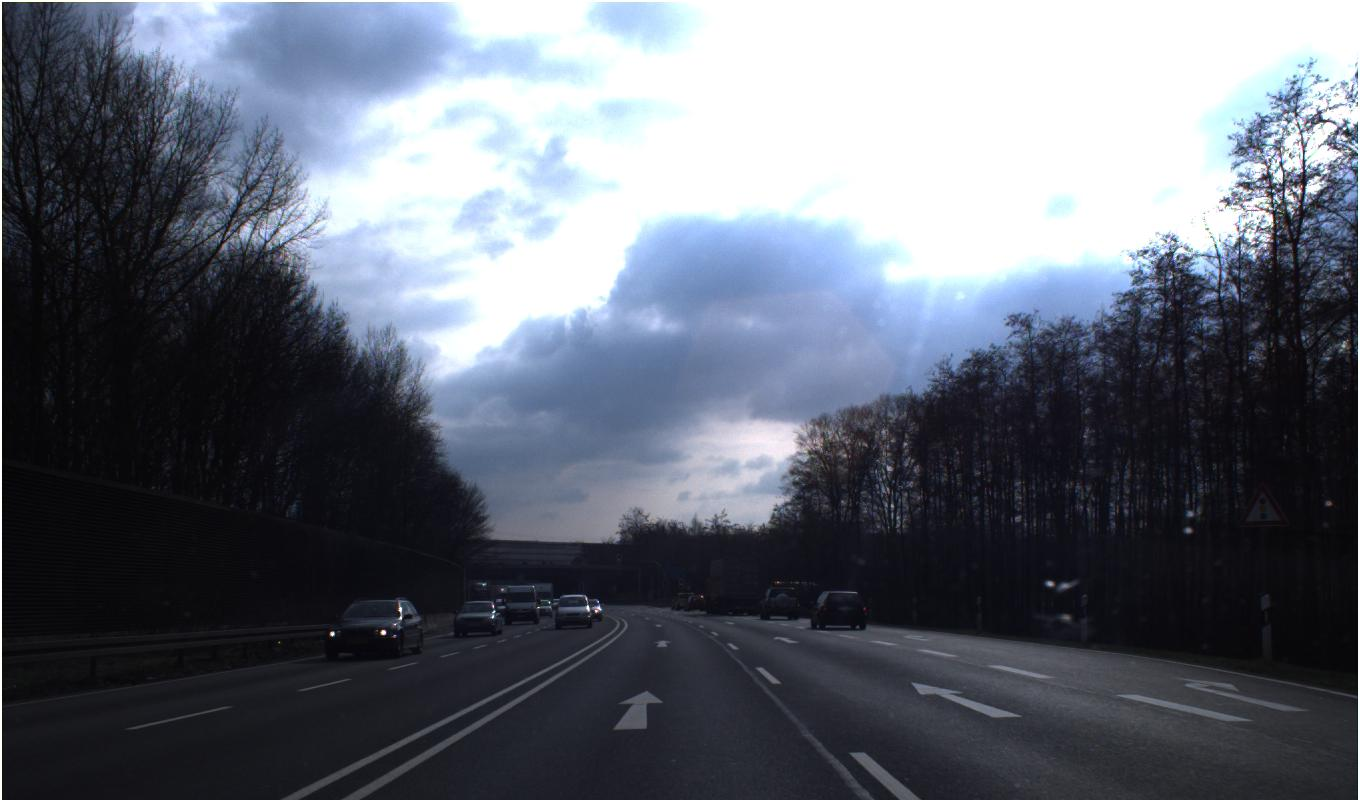danger: (1236, 480, 1290, 528)
